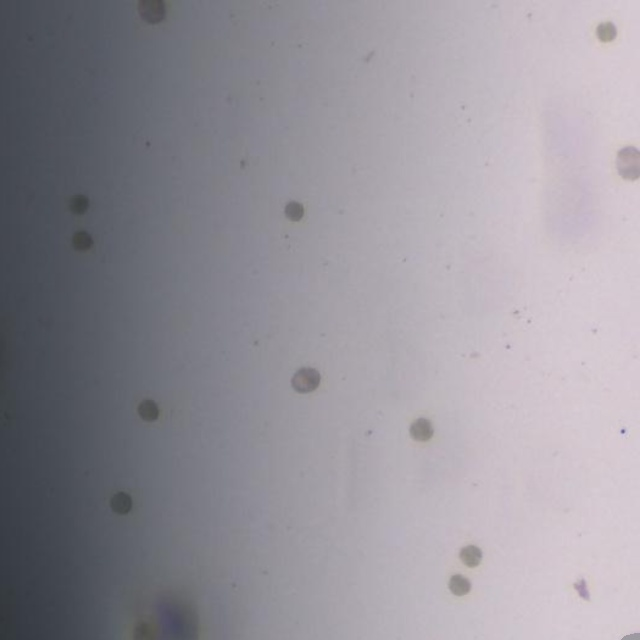non_viable: (290, 366, 319, 393), (616, 146, 639, 180), (137, 0, 165, 24), (408, 417, 433, 441), (458, 544, 482, 567), (110, 490, 132, 514), (449, 574, 471, 596), (284, 200, 305, 222), (71, 230, 93, 251), (137, 399, 158, 421), (68, 193, 89, 215), (595, 21, 616, 41)
